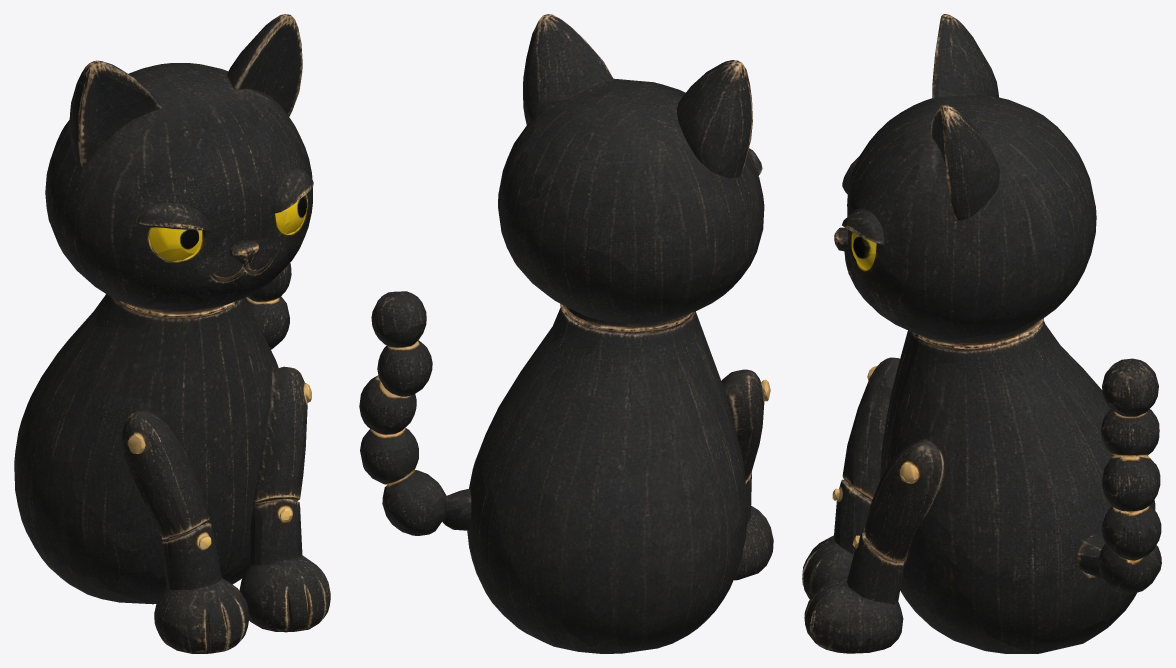
Rendered from cat.glb.
The picture shows the model from 3 angles, left to right: view 1: azimuth 30°, elevation 25°; view 2: azimuth 150°, elevation 25°; view 3: azimuth 270°, elevation 25°; orthographic projection.
Visible parts, largest first — view 1: Mesh_0; view 2: Mesh_0; view 3: Mesh_0.
Part boxes in pixels (x1,y1,x2,y2): Mesh_0: [14, 14, 330, 653]; Mesh_0: [359, 14, 773, 653]; Mesh_0: [802, 14, 1161, 653].
Bounding box in the file's own units: 1.12 × 1.9 × 1.12.
1 material, 1 textured.
